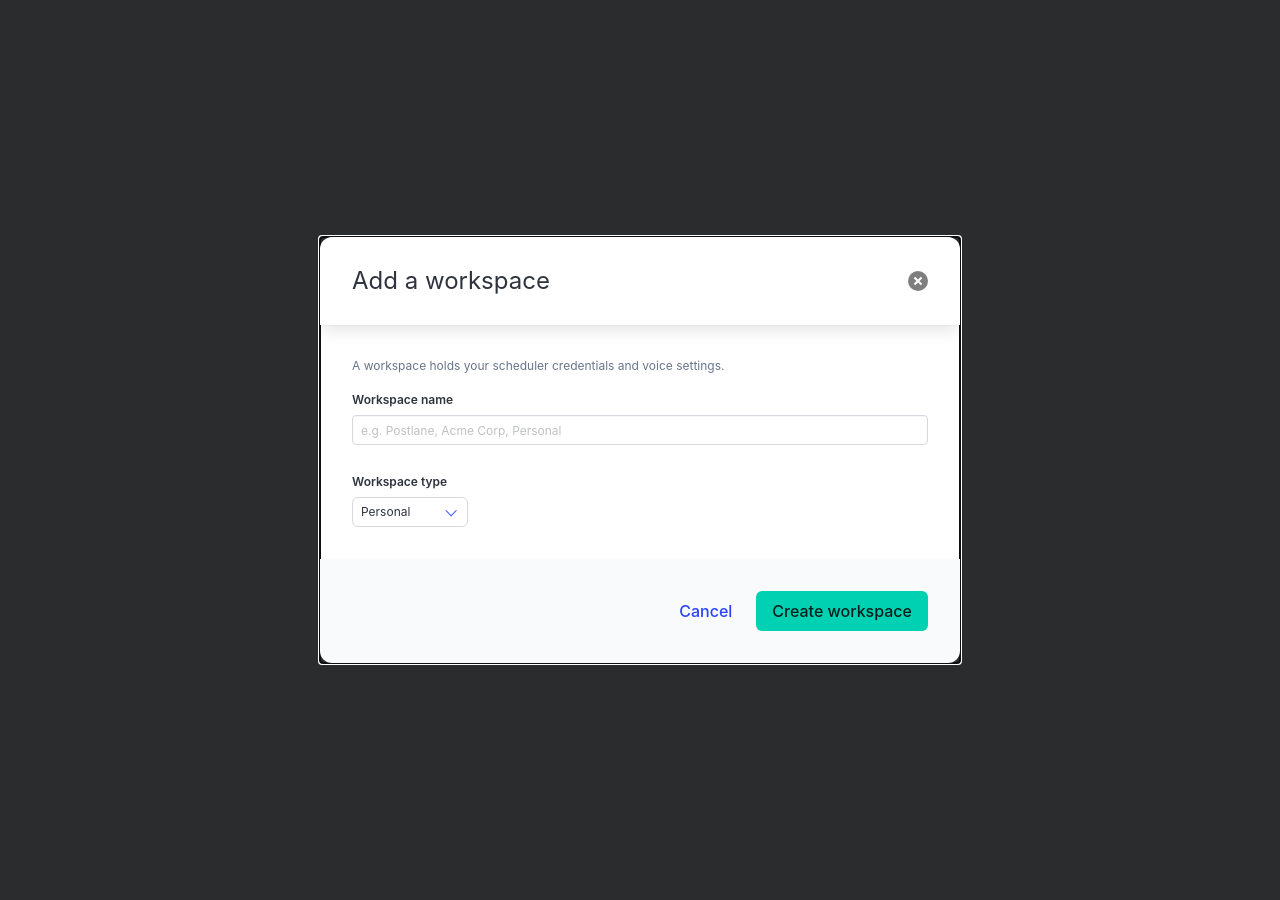
Scenario: AddWorkspaceModal — error handling and type guard › shows failed-to-create-workspace message for generic API errors
In the field labelled "Workspace name": (640, 430) [352,415,928,445], type "My Workspace"
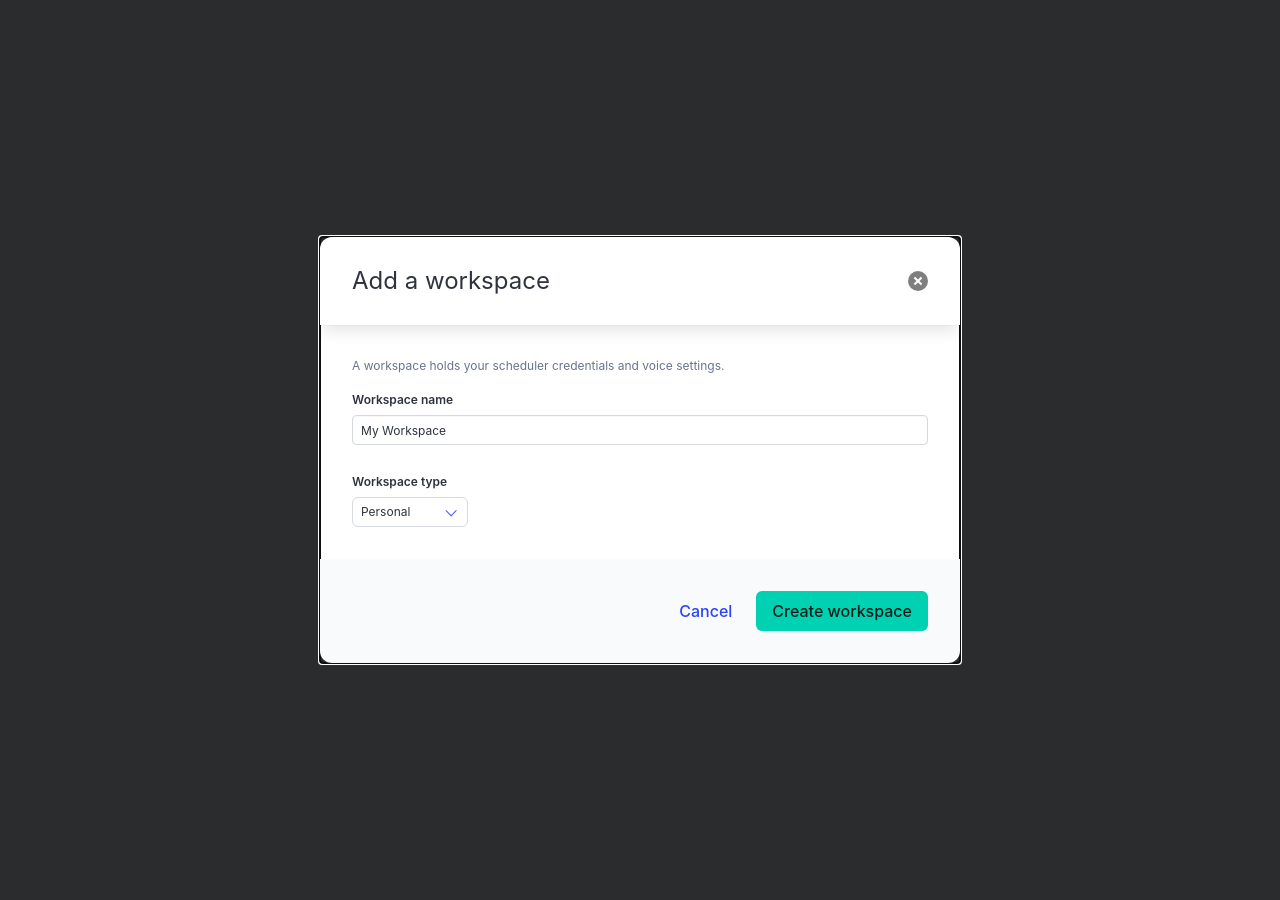
Click the button "Create workspace": (842, 611) [756,591,928,631]
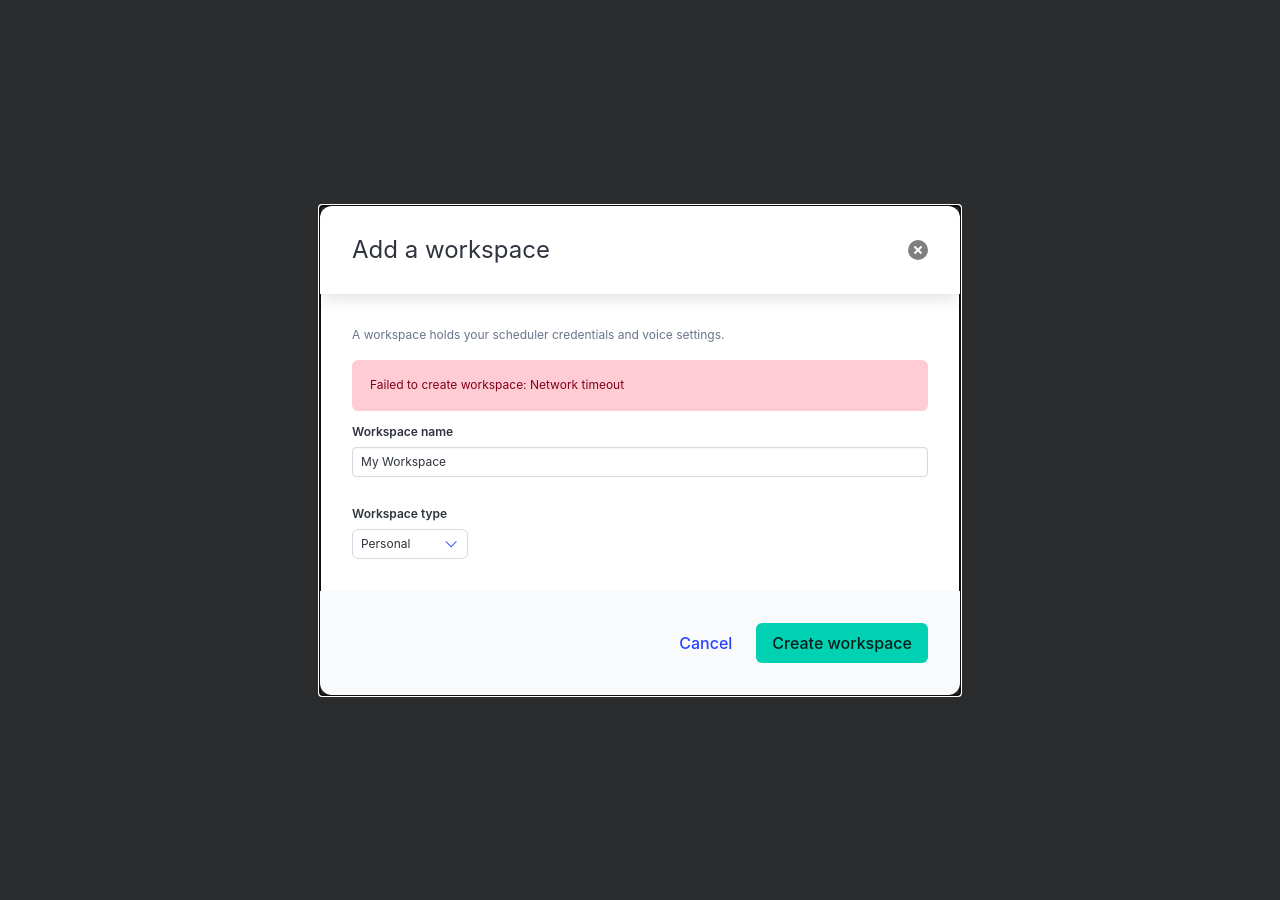
Expected: the message reads "Failed to create workspace: Network timeout", [370,377,624,392]
